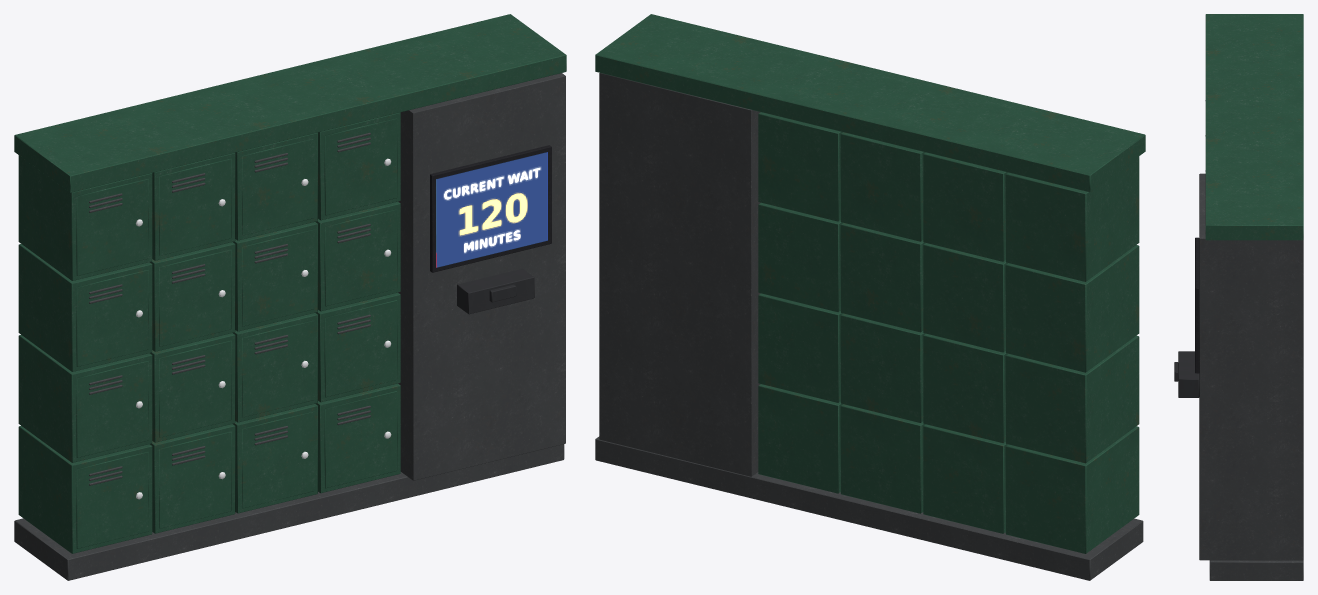
File: SM_QUE_RideLockers.fbx
3 renders of one model, left to right at view 1: azimuth 30°, elevation 25°; view 2: azimuth 150°, elevation 25°; view 3: azimuth 270°, elevation 25°, orthographic. The views are drawn at different scales.
Visible parts, largest first — view 1: SM_QUE_RideLockers_LOD0; view 2: SM_QUE_RideLockers_LOD0; view 3: SM_QUE_RideLockers_LOD0.
Part boxes in pixels (x1,y1,x2,y2): SM_QUE_RideLockers_LOD0: (14, 14, 566, 580); SM_QUE_RideLockers_LOD0: (595, 14, 1145, 580); SM_QUE_RideLockers_LOD0: (1174, 14, 1303, 580).
Size of what is drawn, in the model's own units: 2.4 by 1.88 by 0.62.
